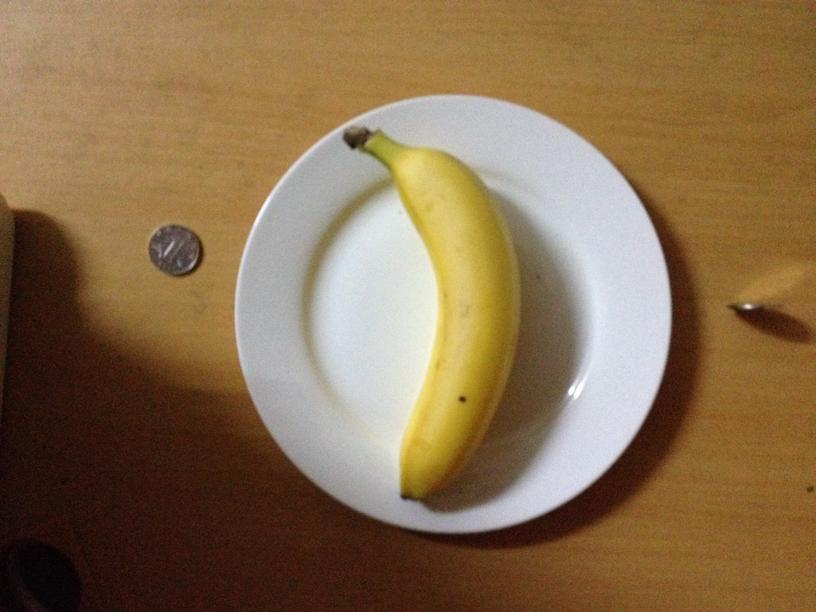banana: (343, 130, 522, 502)
coin: (147, 223, 201, 275)
